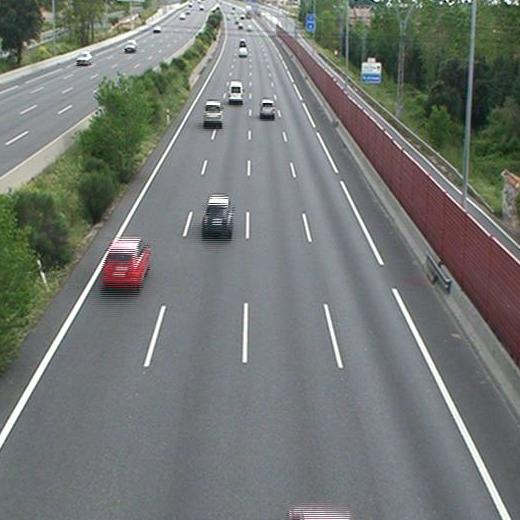car: (103, 240, 149, 284), (203, 196, 234, 232), (203, 102, 224, 122), (260, 100, 275, 116), (238, 48, 247, 57)
van: (229, 81, 243, 101)
